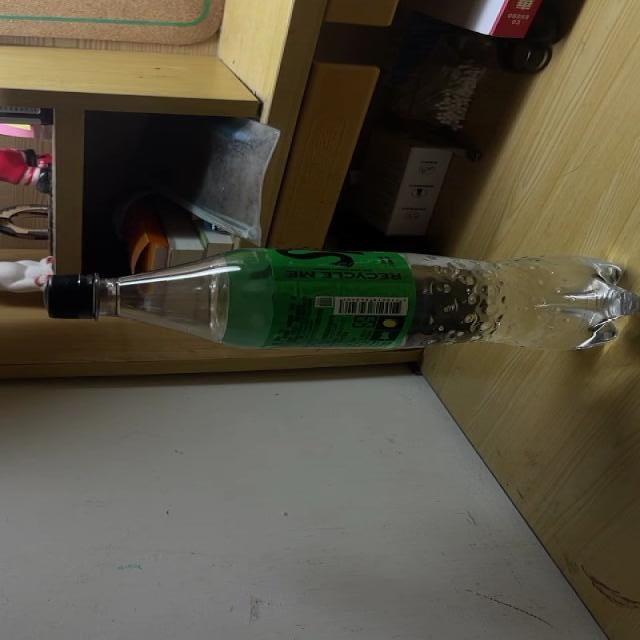Sprite: (47, 250, 640, 351)
